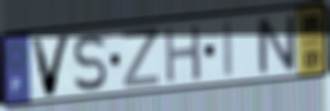H: (163, 21, 203, 86)
I: (221, 17, 236, 80)
N: (254, 12, 299, 77)
S: (72, 32, 109, 94)
V: (28, 32, 74, 100)
Z: (120, 26, 161, 90)
